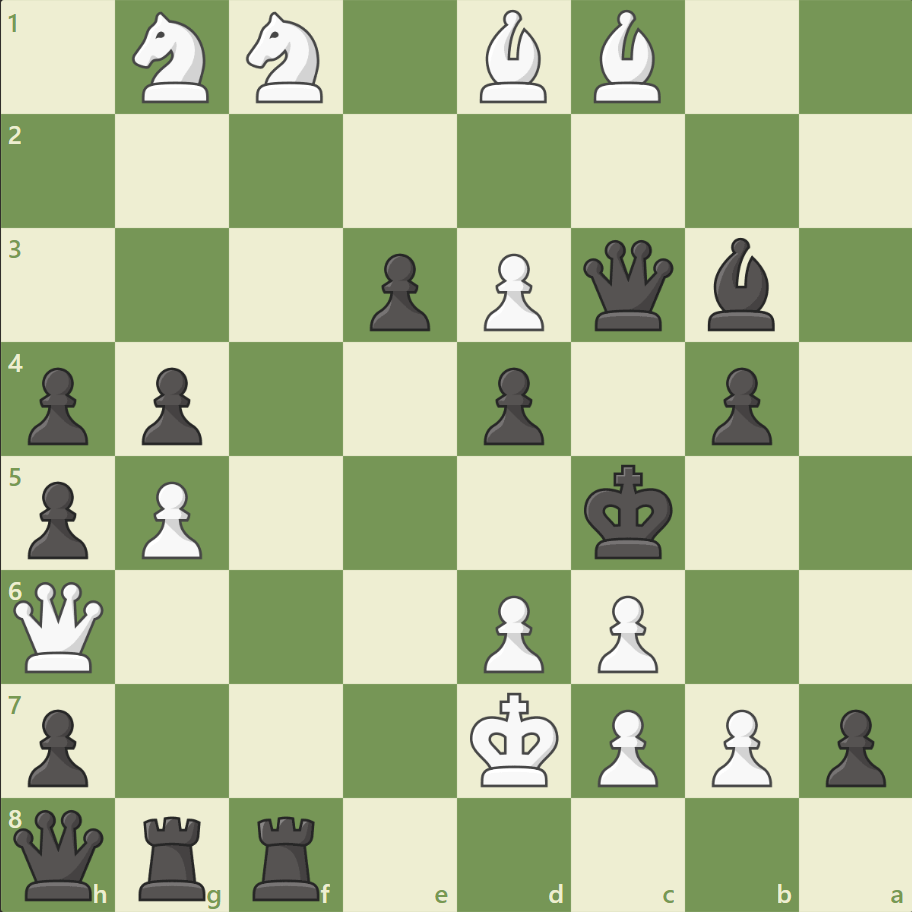B: (585, 6, 669, 109), (471, 6, 555, 109)
K: (465, 685, 565, 793)
N: (124, 7, 222, 110), (238, 7, 335, 110)
P: (701, 700, 776, 791), (474, 586, 549, 677), (133, 473, 208, 564), (474, 246, 549, 337), (588, 700, 662, 791), (588, 586, 662, 677)
Q: (10, 576, 109, 676)
b: (698, 233, 782, 336)
k: (579, 458, 679, 566)
p: (20, 700, 95, 791), (20, 473, 95, 564), (701, 359, 776, 450), (474, 359, 549, 450), (133, 359, 208, 450), (20, 359, 95, 450), (815, 700, 889, 791), (361, 246, 435, 337)
q: (10, 804, 109, 903), (578, 236, 677, 335)
r: (246, 806, 329, 904), (133, 806, 215, 904)
